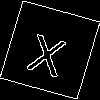X: (25, 25, 71, 78)
